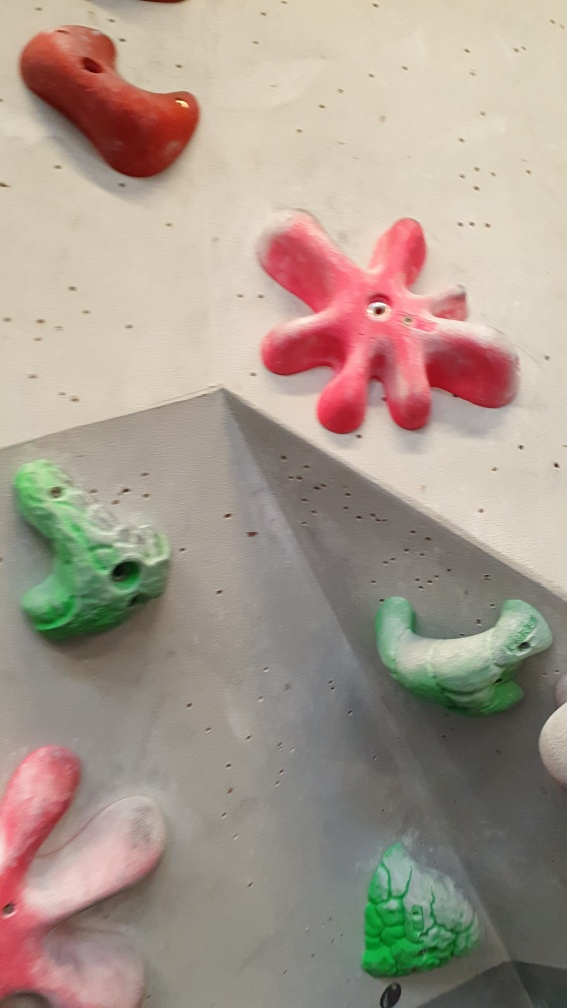Hand Start: (378, 980, 408, 1007)
Jug: (375, 589, 553, 717), (364, 841, 490, 982)
Octopus Pinch: (254, 202, 524, 434), (1, 745, 171, 1004)
